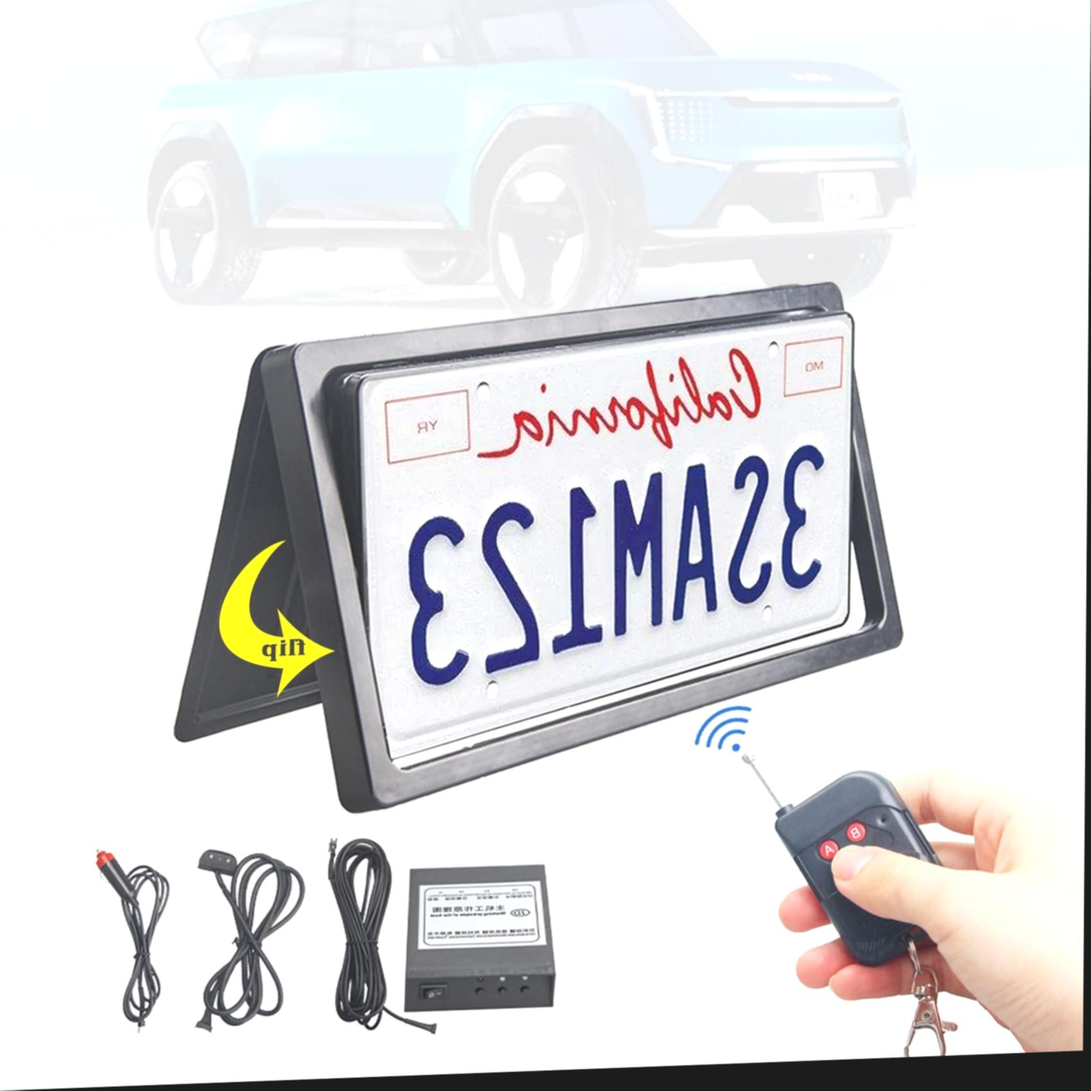License_Plate: (346, 305, 857, 772)
